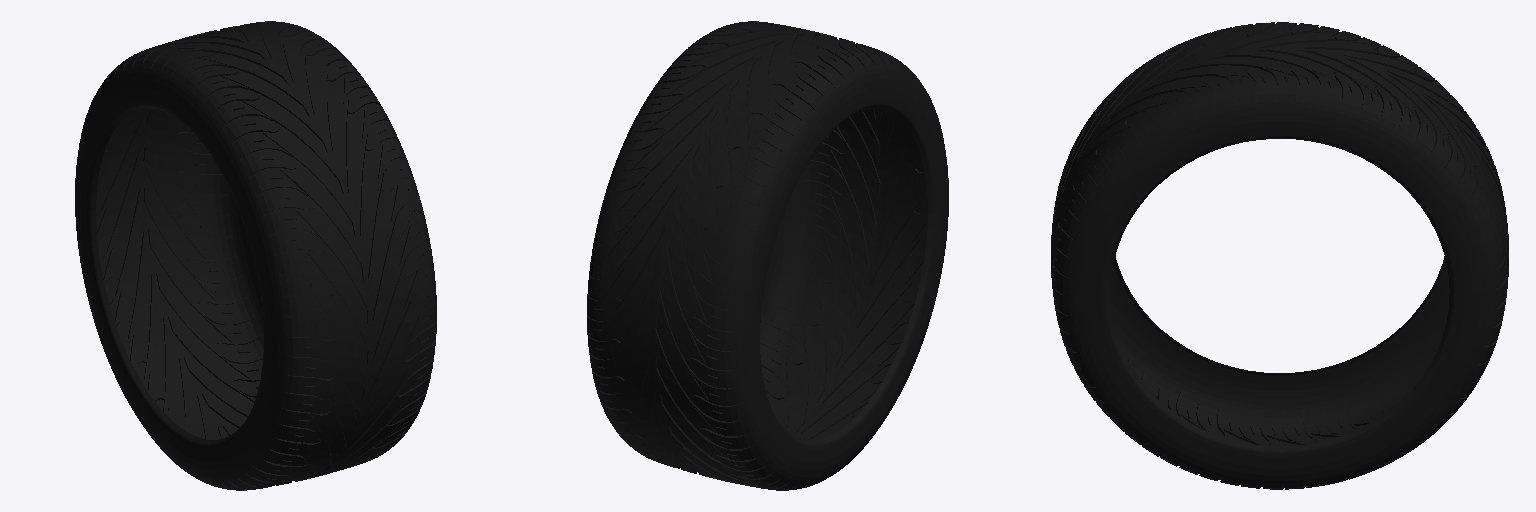
The model's file is llantaDI.obj.
3 renders of one model, left to right at view 1: azimuth 30°, elevation 25°; view 2: azimuth 150°, elevation 25°; view 3: azimuth 270°, elevation 25°, orthographic.
Parts seen in each view (by area): view 1: pasted__HDM_01_03_tire_1; view 2: pasted__HDM_01_03_tire_1; view 3: pasted__HDM_01_03_tire_1.
Boxes of the visible parts, <box> form: pasted__HDM_01_03_tire_1: <box>75,21,436,490</box>; pasted__HDM_01_03_tire_1: <box>587,21,948,490</box>; pasted__HDM_01_03_tire_1: <box>1051,22,1508,489</box>.
Size of the model in its own units: 0.4401 by 1.1 by 1.1.